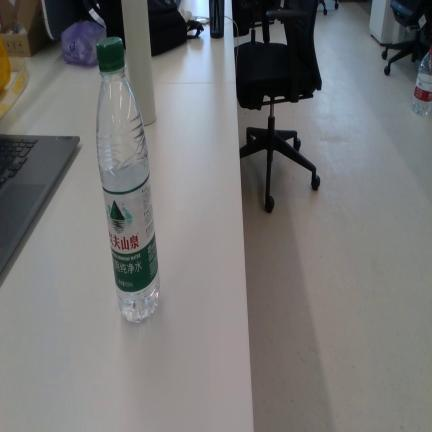bottle: (96, 37, 160, 322), (412, 46, 432, 115)
